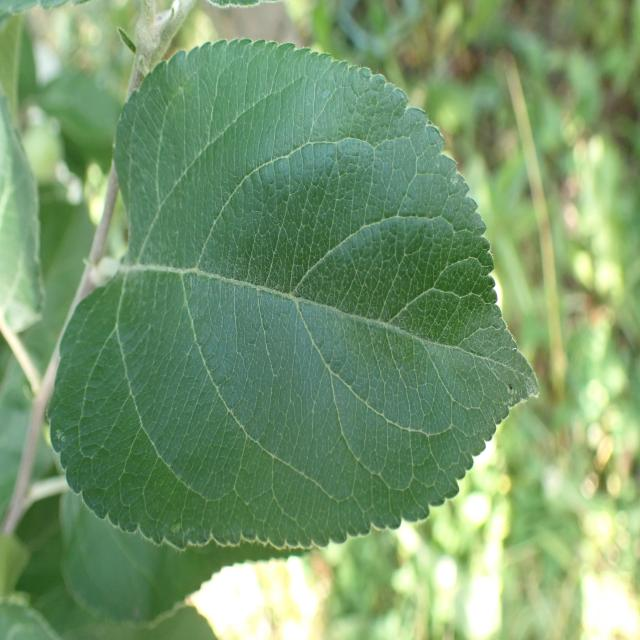healthy: (44, 37, 542, 552), (0, 85, 46, 335)
